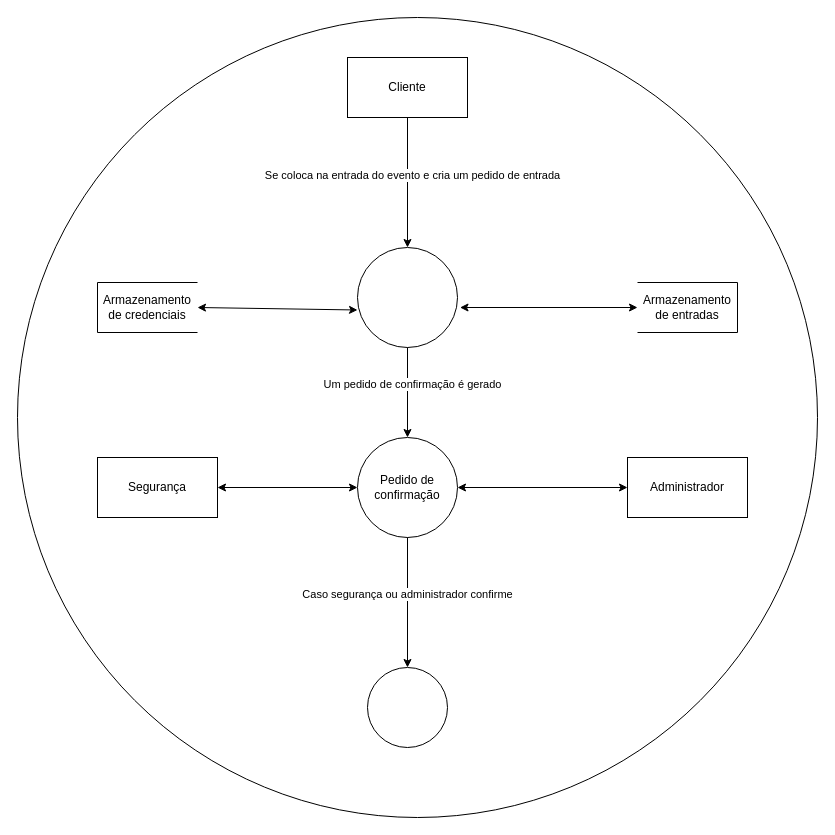
This 835x835 diagram has some shape labels left out. Here are the shapes that lost their labels. From the top down, the box of each, then its label:
(356, 246, 458, 348): Pedido de entrada no evento
(366, 666, 448, 748): Acesso permitido
